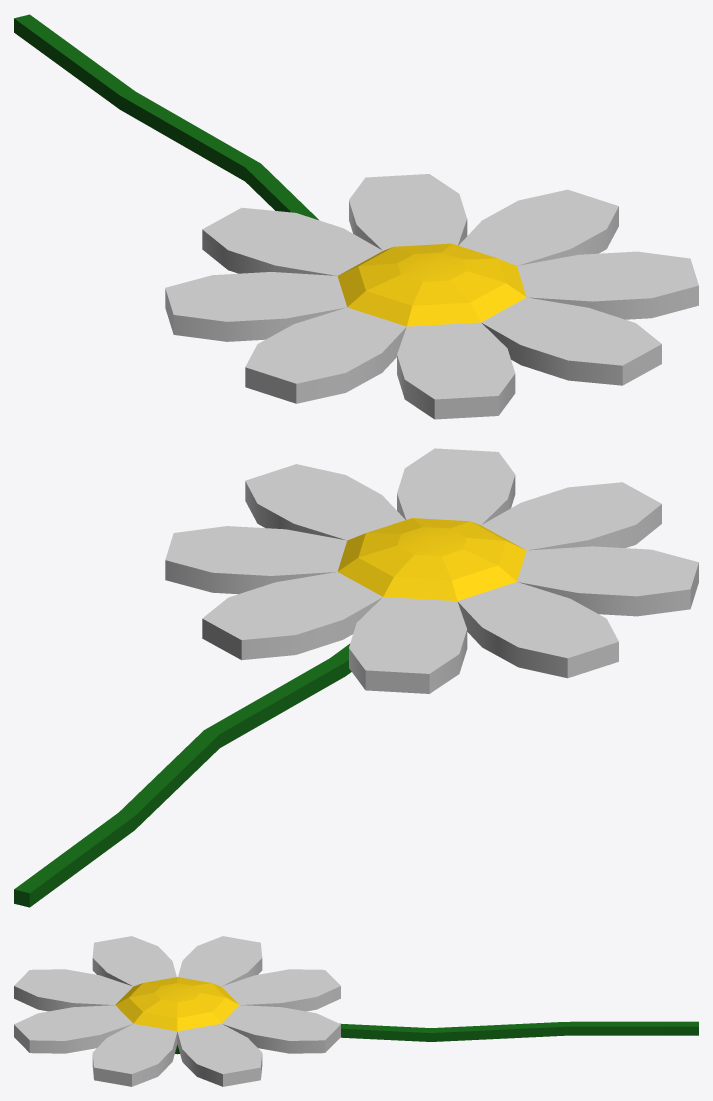
Rendered from Flower_01.obj.
3 renders of one model, top to bottom at view 1: azimuth 30°, elevation 25°; view 2: azimuth 150°, elevation 25°; view 3: azimuth 270°, elevation 25°, orthographic. The views are drawn at different scales.
Parts seen in each view (by area): view 1: pCylinder25; view 2: pCylinder25; view 3: pCylinder25.
Part boxes in pixels (box(x1,y1,x2,y2)): pCylinder25: box(14, 14, 698, 419); pCylinder25: box(14, 448, 698, 907); pCylinder25: box(14, 936, 698, 1086).
Bounding box in the file's own units: 126 × 19.56 × 265.
